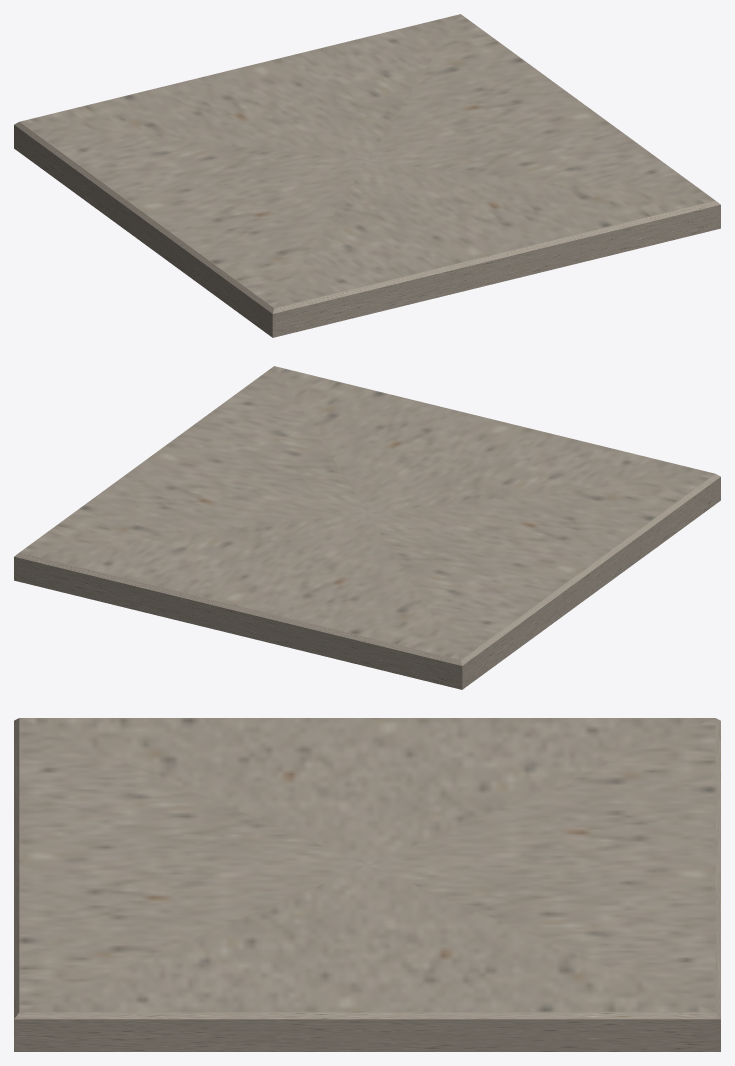
File: showcase_sidewalk_corner.glb
3 views of the same model, one above another, from view 1: azimuth 30°, elevation 25°; view 2: azimuth 150°, elevation 25°; view 3: azimuth 270°, elevation 25° (orthographic). The views are drawn at different scales.
Visible parts, largest first — view 1: outdoor_showcase_sidewalk_corner; view 2: outdoor_showcase_sidewalk_corner; view 3: outdoor_showcase_sidewalk_corner.
Part boxes in pixels (x1=…): outdoor_showcase_sidewalk_corner: x1=14, y1=14, x2=720, y2=337; outdoor_showcase_sidewalk_corner: x1=14, y1=366, x2=720, y2=689; outdoor_showcase_sidewalk_corner: x1=14, y1=718, x2=720, y2=1051.
Size of the model in its own units: 2.4 by 0.14 by 2.4.
Materials: 1 (1 with a texture image).
